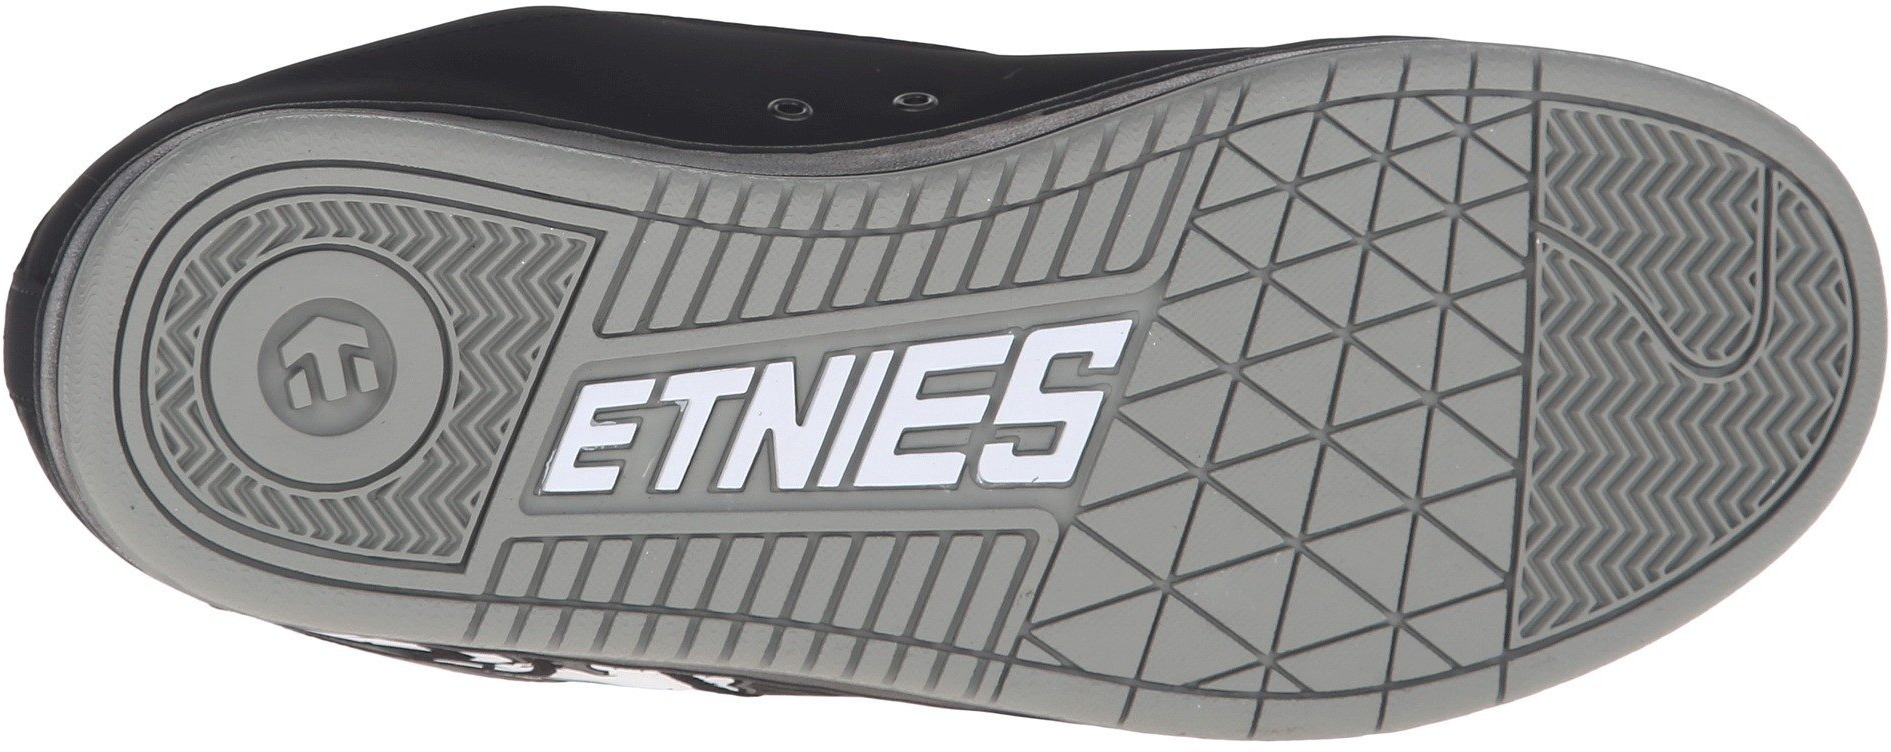chevron: (1520, 356, 1749, 640), (1535, 98, 1763, 364), (1752, 280, 1850, 368), (1745, 366, 1846, 450), (1774, 210, 1843, 280)
quad: (808, 535, 1035, 698), (639, 531, 860, 675), (466, 536, 686, 660)
text: (535, 354, 765, 503)
triangle: (1011, 95, 1536, 699), (1012, 519, 1296, 703)
